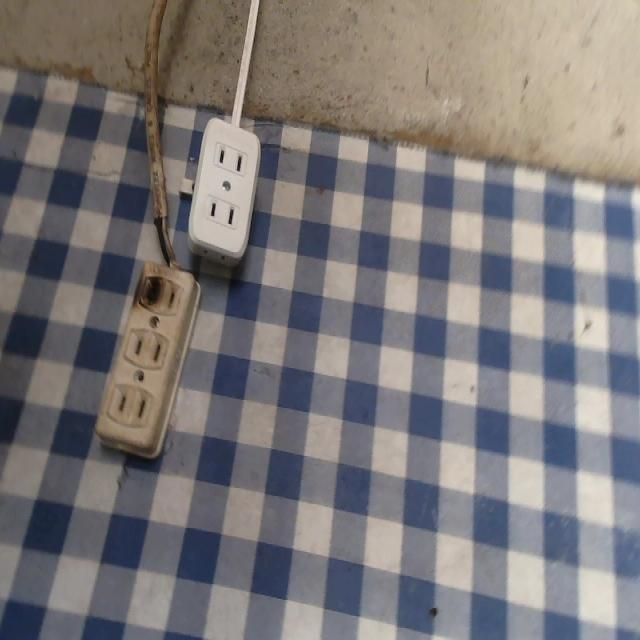-: (133, 262, 165, 310)
